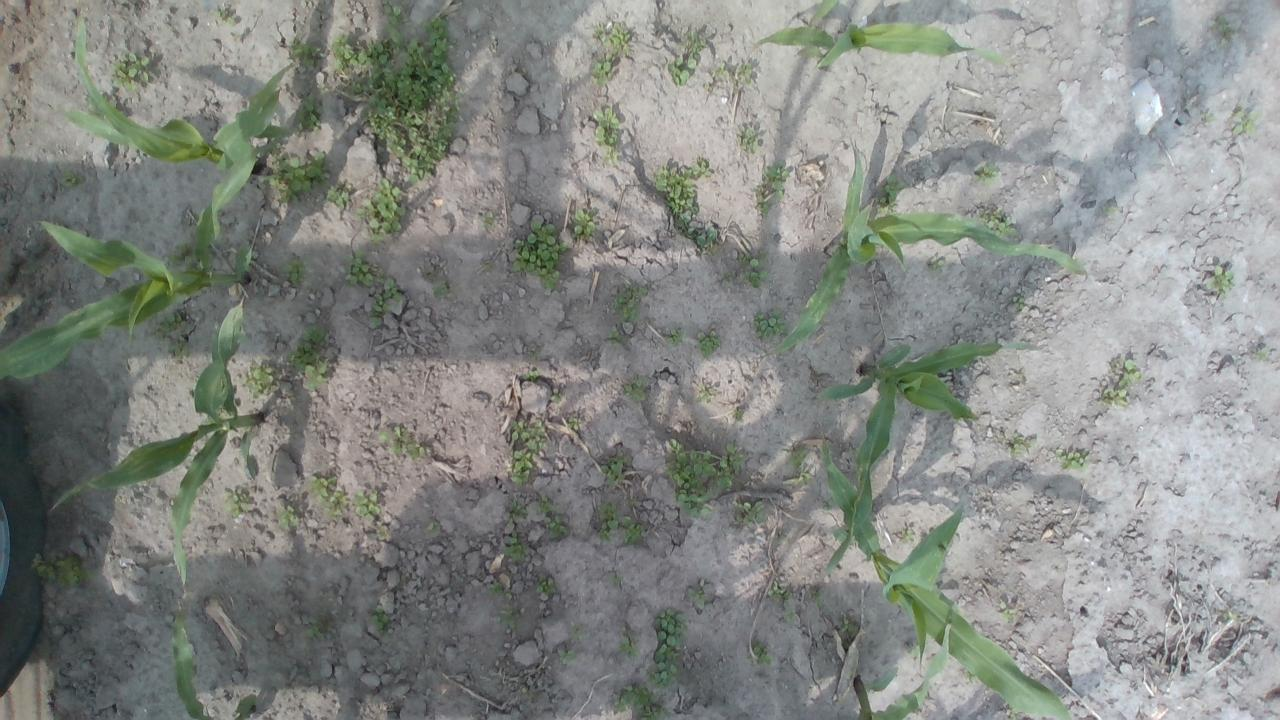Maize: (817, 435, 1077, 720), (772, 145, 1084, 355), (0, 145, 263, 393), (52, 294, 265, 594), (816, 340, 1038, 578), (61, 16, 290, 179), (748, 20, 1012, 75), (848, 620, 952, 720), (168, 611, 258, 720), (809, 0, 845, 26)
Weeds: (330, 5, 466, 182), (664, 438, 746, 520), (258, 140, 329, 208), (511, 218, 568, 288), (357, 176, 408, 242), (647, 608, 688, 688), (286, 324, 332, 393), (654, 164, 699, 226), (32, 552, 96, 592), (610, 683, 672, 720), (666, 31, 704, 87), (366, 278, 402, 330), (308, 475, 348, 520), (110, 53, 152, 94), (590, 107, 620, 162), (342, 250, 385, 288), (378, 424, 423, 458), (244, 358, 280, 400), (286, 35, 326, 71), (612, 282, 648, 322), (592, 22, 632, 56), (875, 175, 906, 216), (976, 207, 1017, 238), (291, 94, 321, 134), (509, 418, 546, 450), (752, 308, 788, 340), (738, 252, 769, 288), (1204, 264, 1235, 300), (596, 502, 622, 543), (785, 447, 810, 486), (1230, 108, 1266, 135), (766, 162, 790, 202), (352, 487, 381, 520), (152, 310, 186, 338), (600, 452, 626, 488), (511, 450, 535, 485), (682, 224, 718, 247), (1054, 448, 1088, 472), (222, 488, 248, 518), (736, 498, 766, 524), (279, 256, 306, 284), (592, 56, 614, 88), (614, 631, 640, 657), (327, 181, 352, 208), (1118, 359, 1142, 387), (573, 208, 596, 237), (169, 238, 192, 266), (167, 334, 191, 360), (624, 374, 648, 400), (698, 330, 720, 358), (735, 127, 759, 152), (504, 532, 524, 562), (1006, 432, 1030, 457), (622, 516, 642, 546), (974, 162, 1000, 185), (368, 608, 388, 637), (1100, 388, 1128, 408), (546, 515, 570, 537), (752, 641, 774, 665), (686, 157, 712, 176), (768, 581, 792, 600), (277, 505, 296, 529), (62, 170, 84, 190), (685, 589, 705, 610), (506, 504, 526, 524), (487, 582, 512, 598), (838, 616, 858, 636), (536, 575, 555, 596), (304, 622, 324, 641), (734, 63, 751, 85), (496, 606, 514, 625), (664, 328, 684, 345), (998, 600, 1015, 620), (213, 8, 234, 24), (558, 648, 576, 666), (694, 383, 711, 402), (534, 496, 554, 512), (1212, 16, 1232, 32), (927, 256, 944, 273), (432, 280, 448, 298), (606, 329, 625, 344), (710, 63, 727, 79), (570, 623, 585, 640), (900, 528, 914, 544), (480, 209, 494, 224), (784, 608, 796, 625), (376, 526, 390, 540), (814, 591, 824, 610), (568, 417, 582, 430), (759, 200, 770, 216), (526, 370, 540, 382), (1254, 349, 1268, 361), (1014, 295, 1024, 311), (1104, 206, 1118, 217), (1222, 610, 1236, 620), (1201, 112, 1213, 123), (608, 575, 624, 582), (552, 390, 560, 402), (735, 412, 742, 420)
